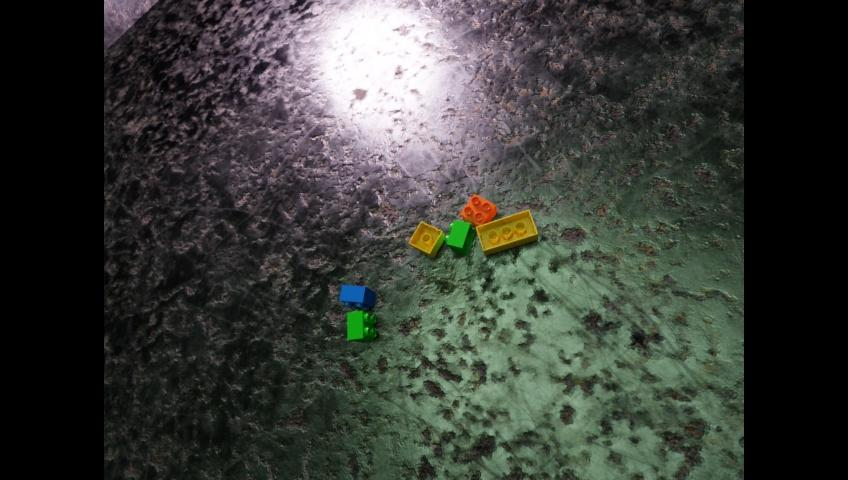2x2_blue: (339, 284, 375, 309)
2x2_green: (445, 219, 473, 255), (347, 310, 375, 341)
2x2_orange: (460, 193, 496, 227)
2x2_yellow: (408, 221, 445, 257)
4x2_yellow: (476, 209, 537, 255)
